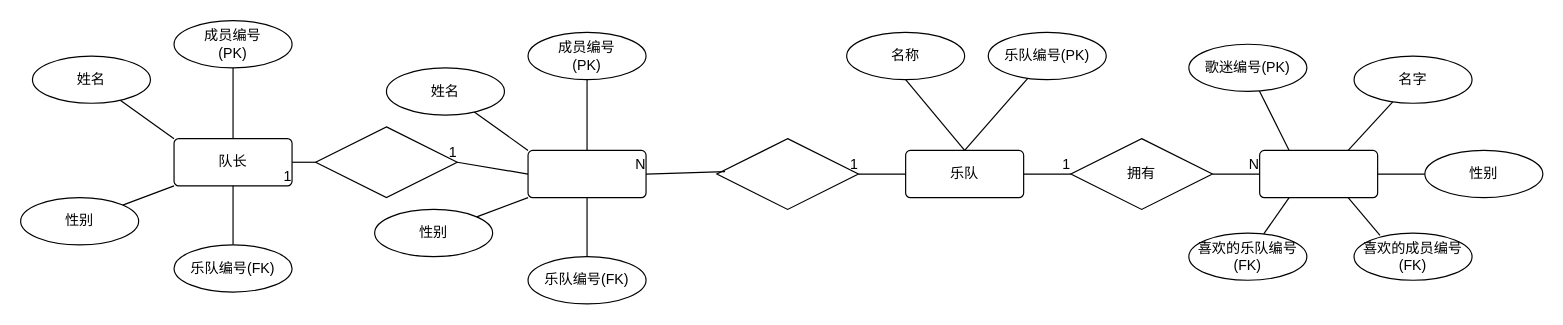
Some shapes in this 1563 by 325 pixel diagram are drawn without their labels. The centre of each missing label's shape, as x and y in pixels:
"成员信息" goes at [586,173].
"歌迷信息" goes at [1318,173].
"管理" goes at [385,162].
"组成" goes at [787,173].
